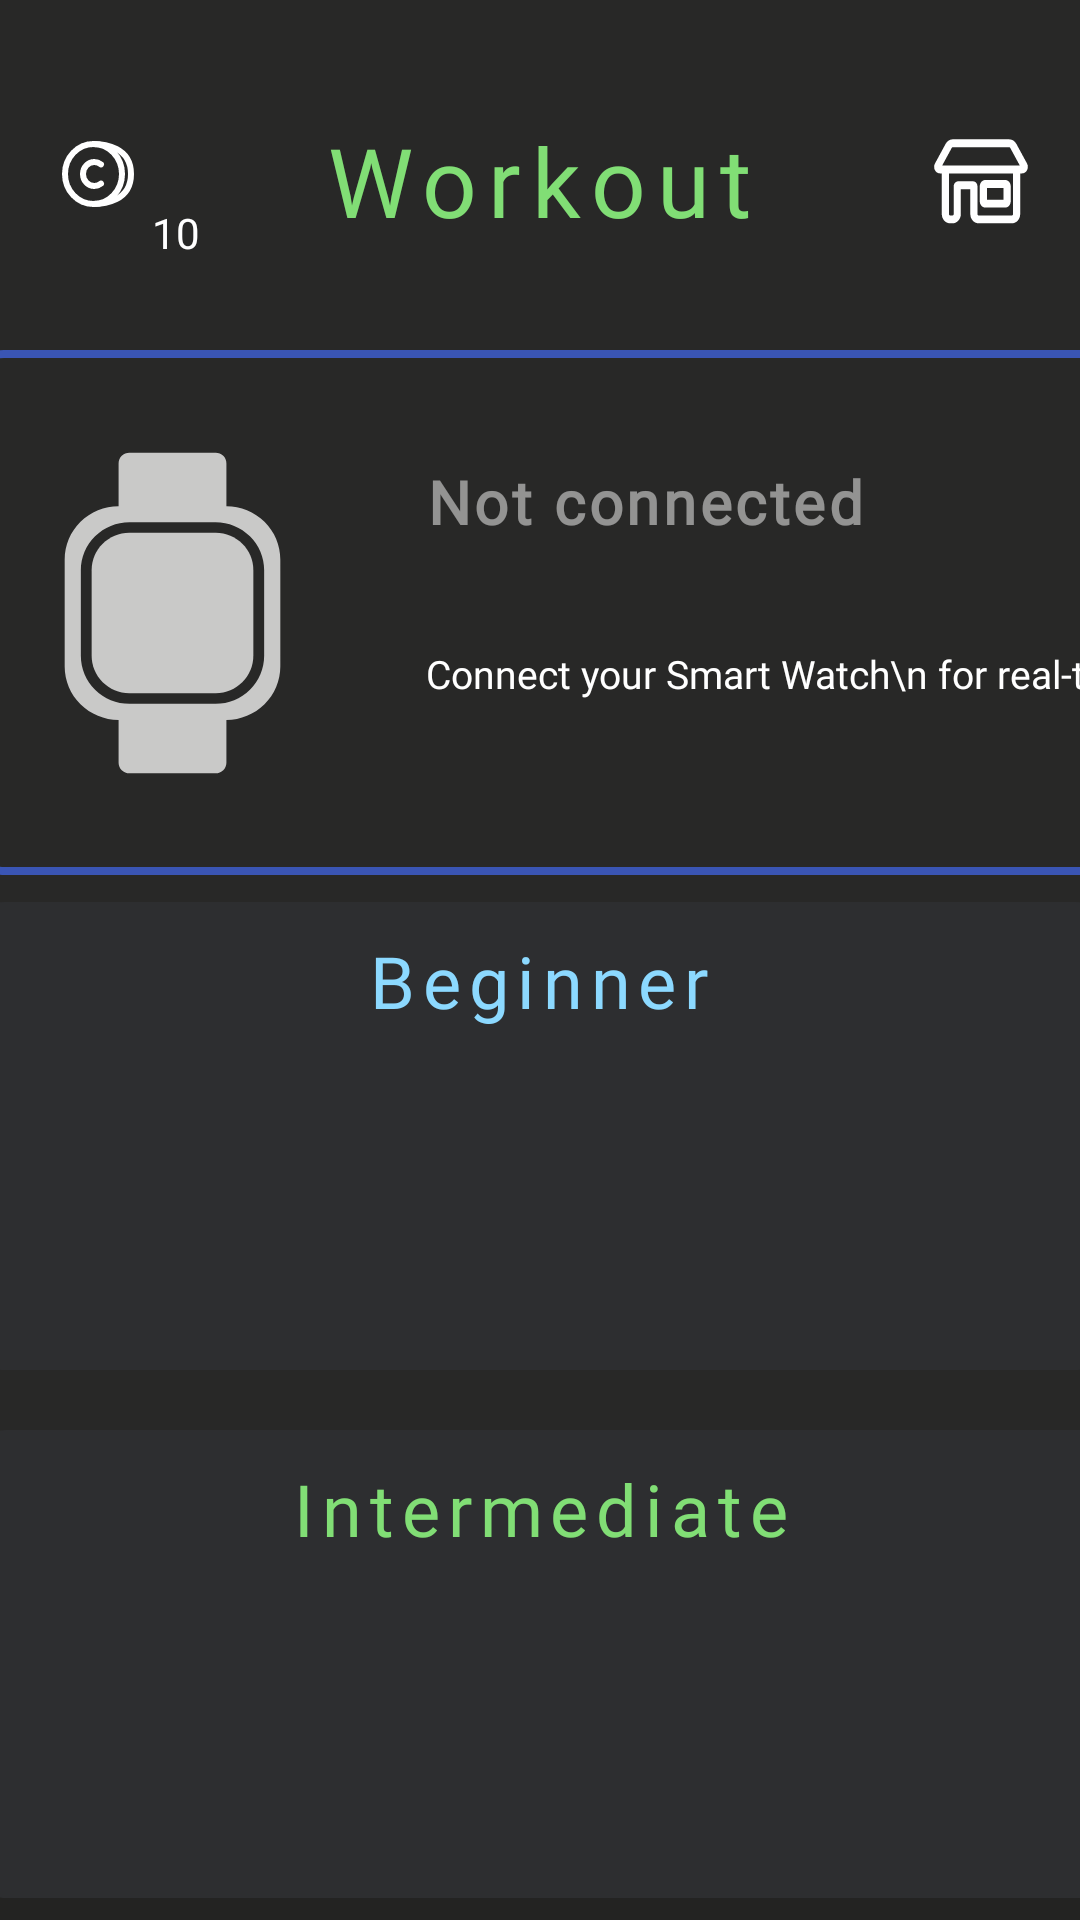

Where to tap for icons on this 1080w x 1920h app screen, as [x,y]:
coins: [98,174]
shop: [981,181]
